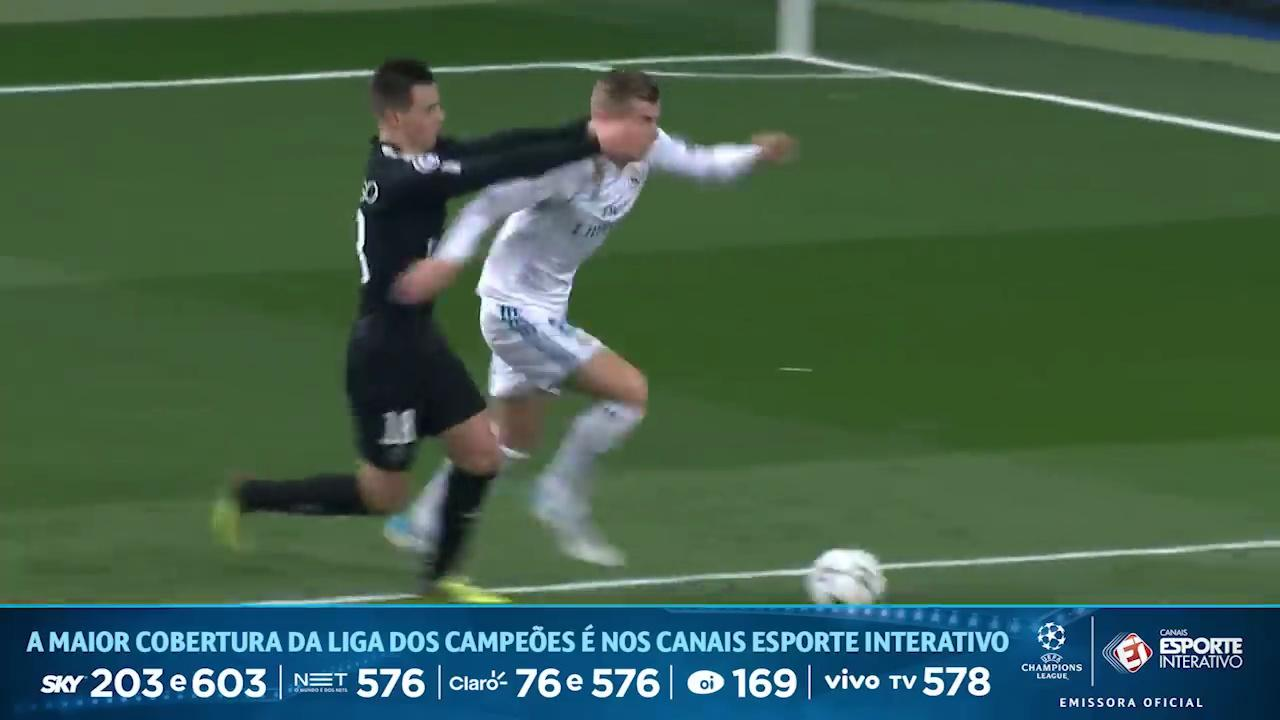football: (805, 549, 886, 604)
player: (213, 60, 644, 602), (430, 71, 791, 565)
